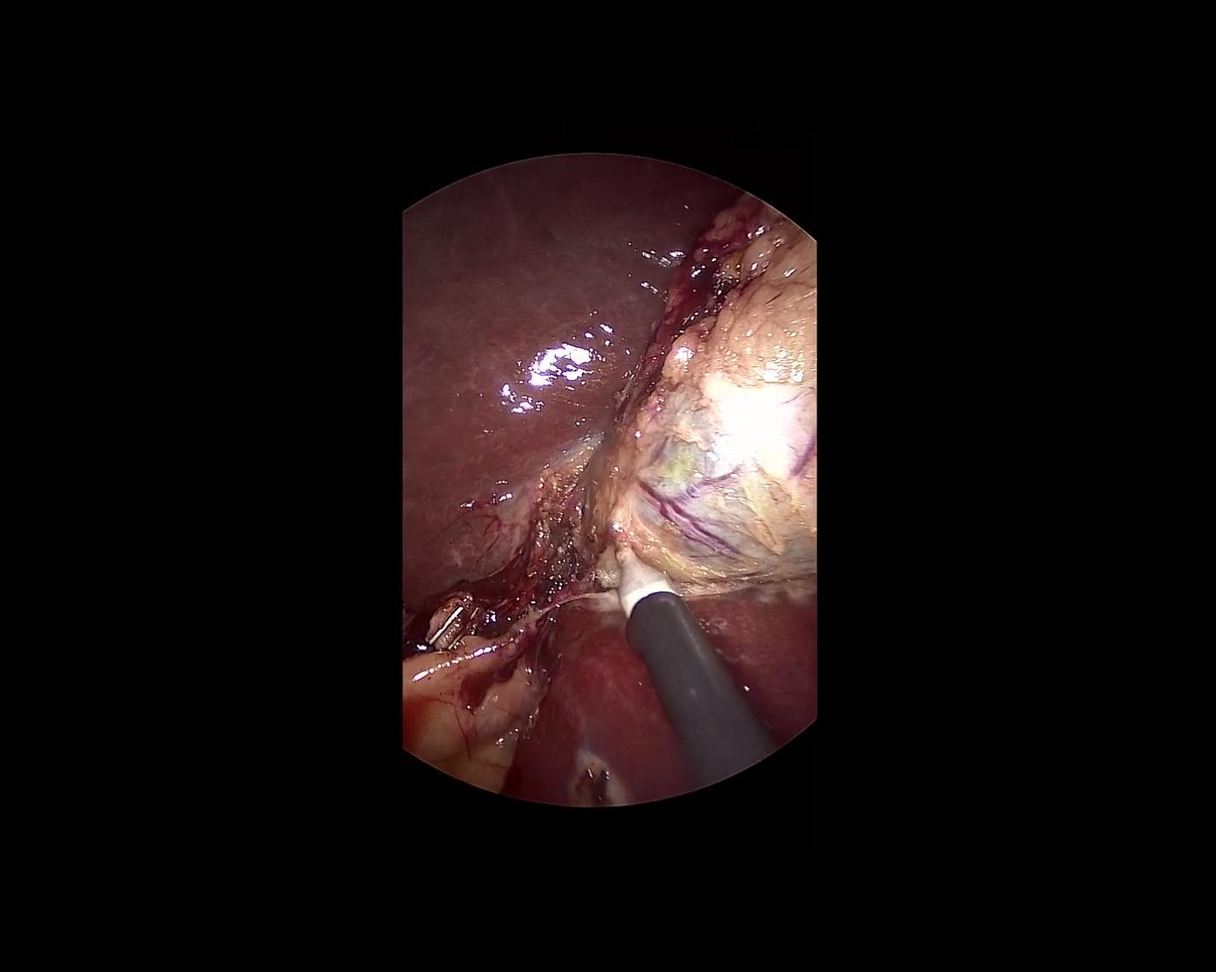Cautery: (561, 509, 779, 796)
Gallbladder: (609, 192, 817, 590)
Liver: (239, 60, 735, 648), (476, 567, 843, 818)
